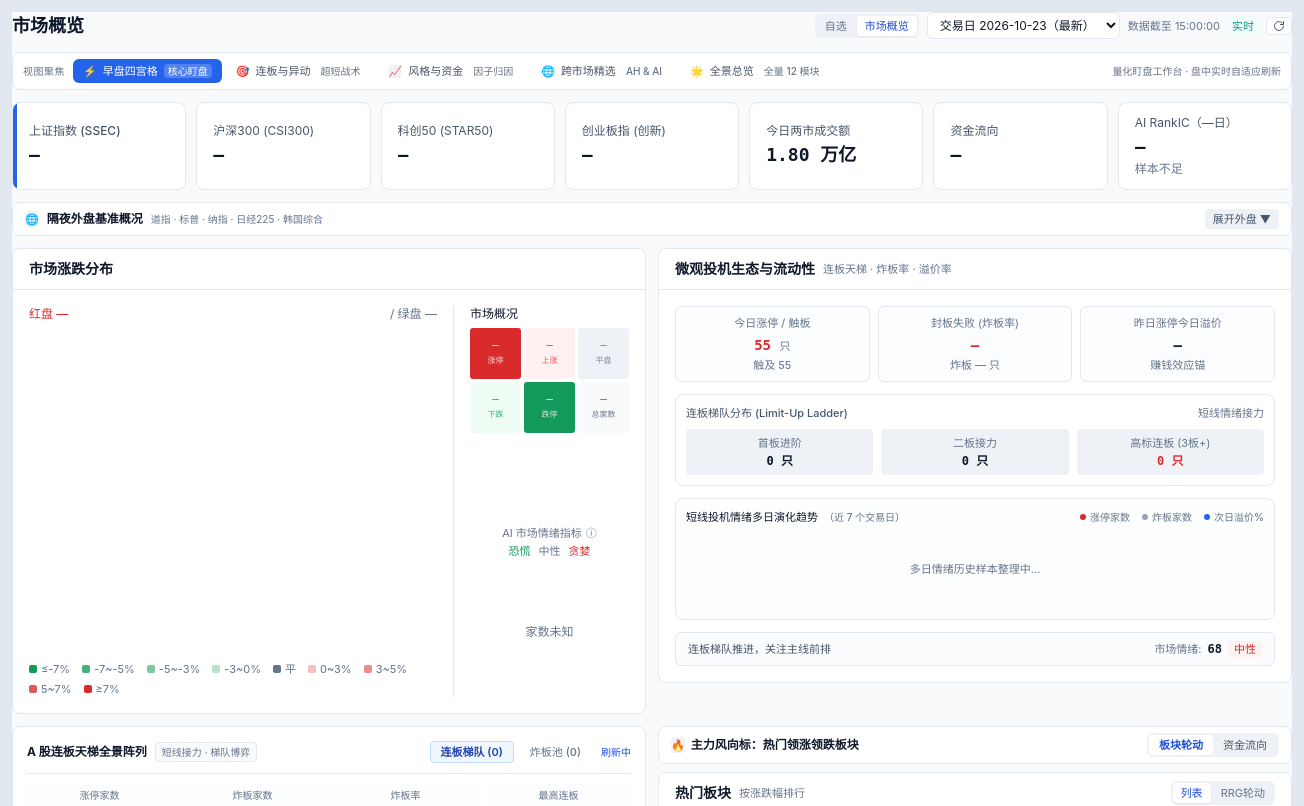
Test: MarketOverview Distill 早盘四宫格与全景按需折叠 › 点击展开外盘按钮能够切换外盘基准的展示与收起
The width and height of the screenshot is (1304, 806).
What coordinates should you click on to do the following:
click the button "展开外盘 ▼"
I would click on:
 (1242, 219)
Its box is 1205,209 -> 1279,229.
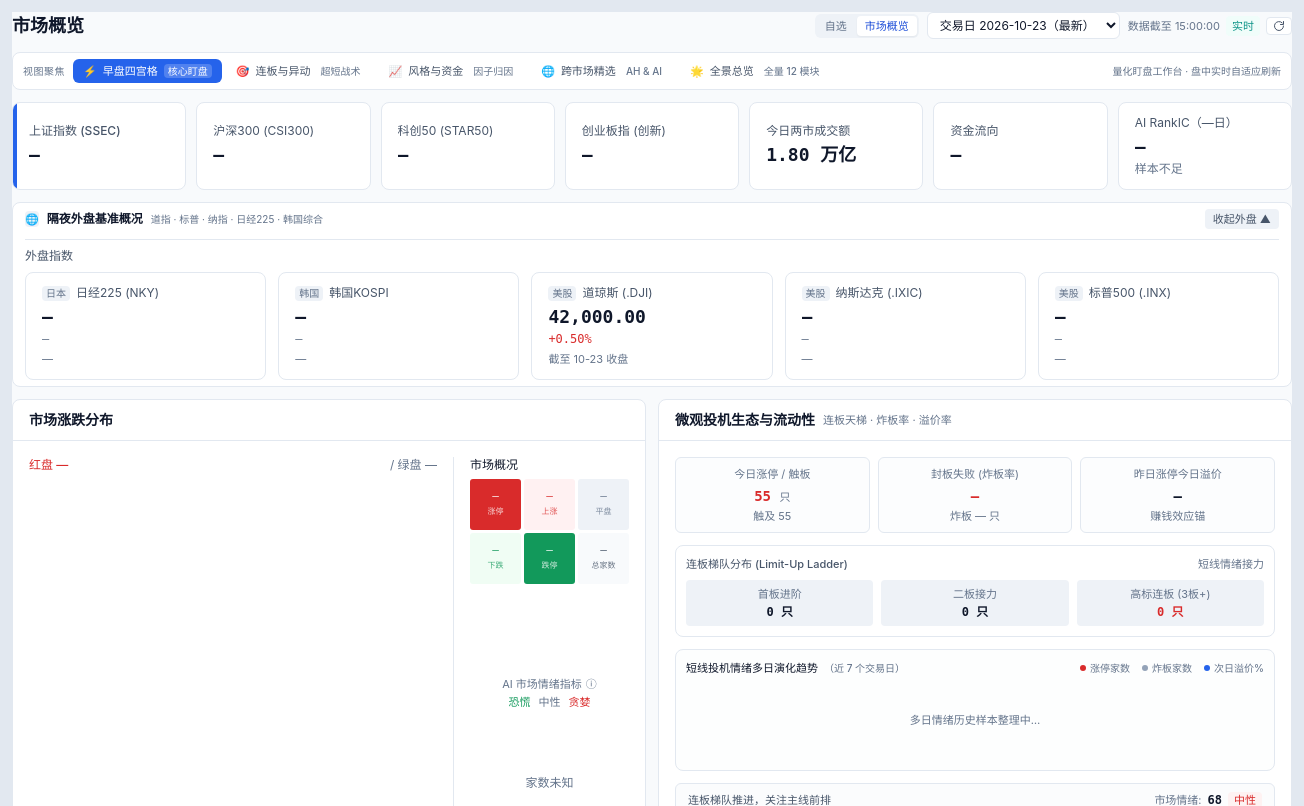
Check: the text "收起外盘 ▲" is shown, box 1213,211 -> 1271,227
Check: the text "道琼斯 (.DJI)" is shown, box 582,285 -> 653,301
What coordinates should you click on to do the following:
click the button "收起外盘 ▲"
I would click on:
 (1242, 219)
Its box is 1205,209 -> 1279,229.
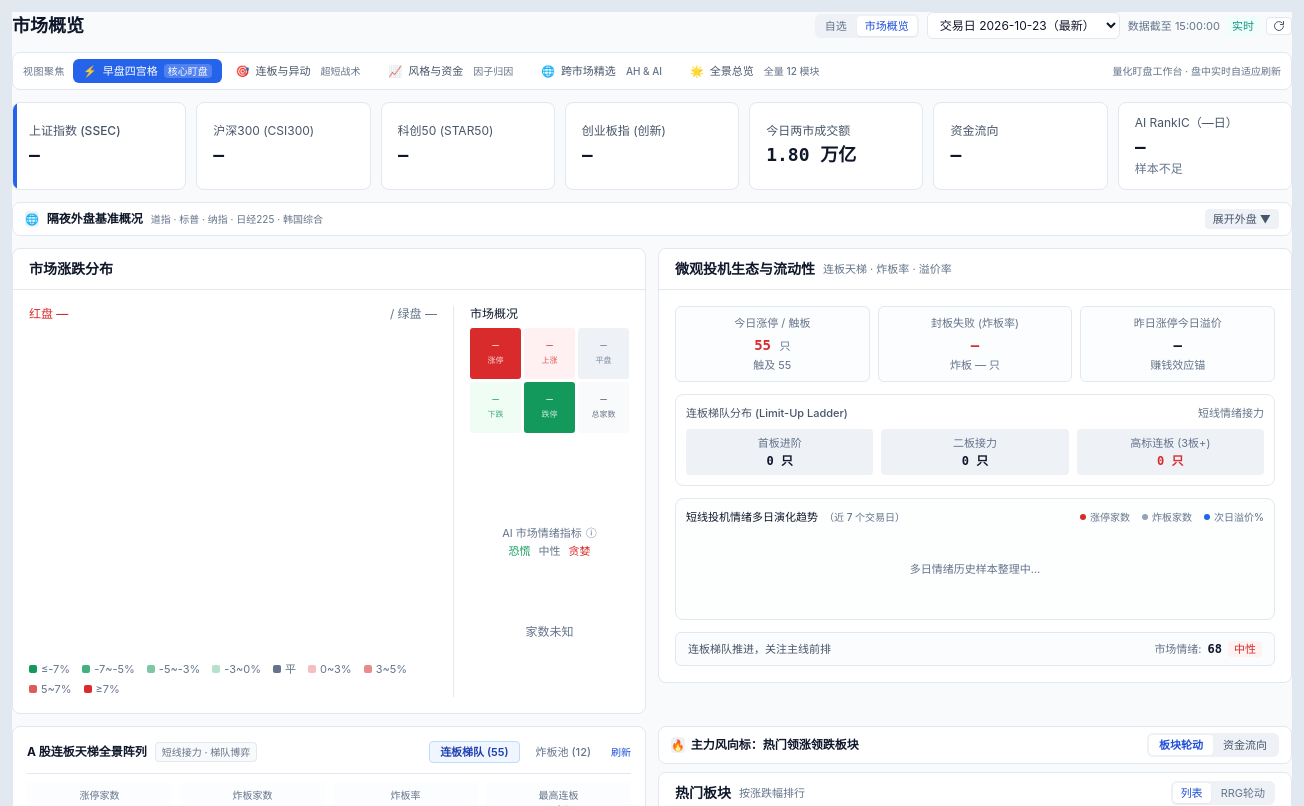
Check: the text "展开外盘 ▼" is shown, box 1213,211 -> 1271,227
